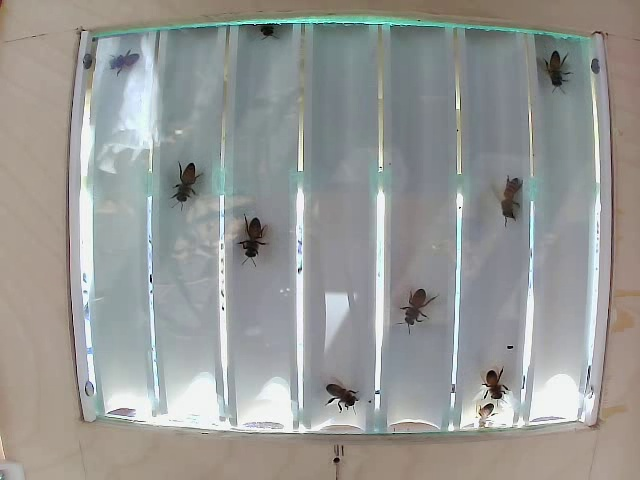bee: (493, 156, 532, 227), (539, 41, 577, 100), (166, 149, 211, 198), (227, 214, 274, 259), (408, 276, 441, 332), (325, 386, 365, 414)
